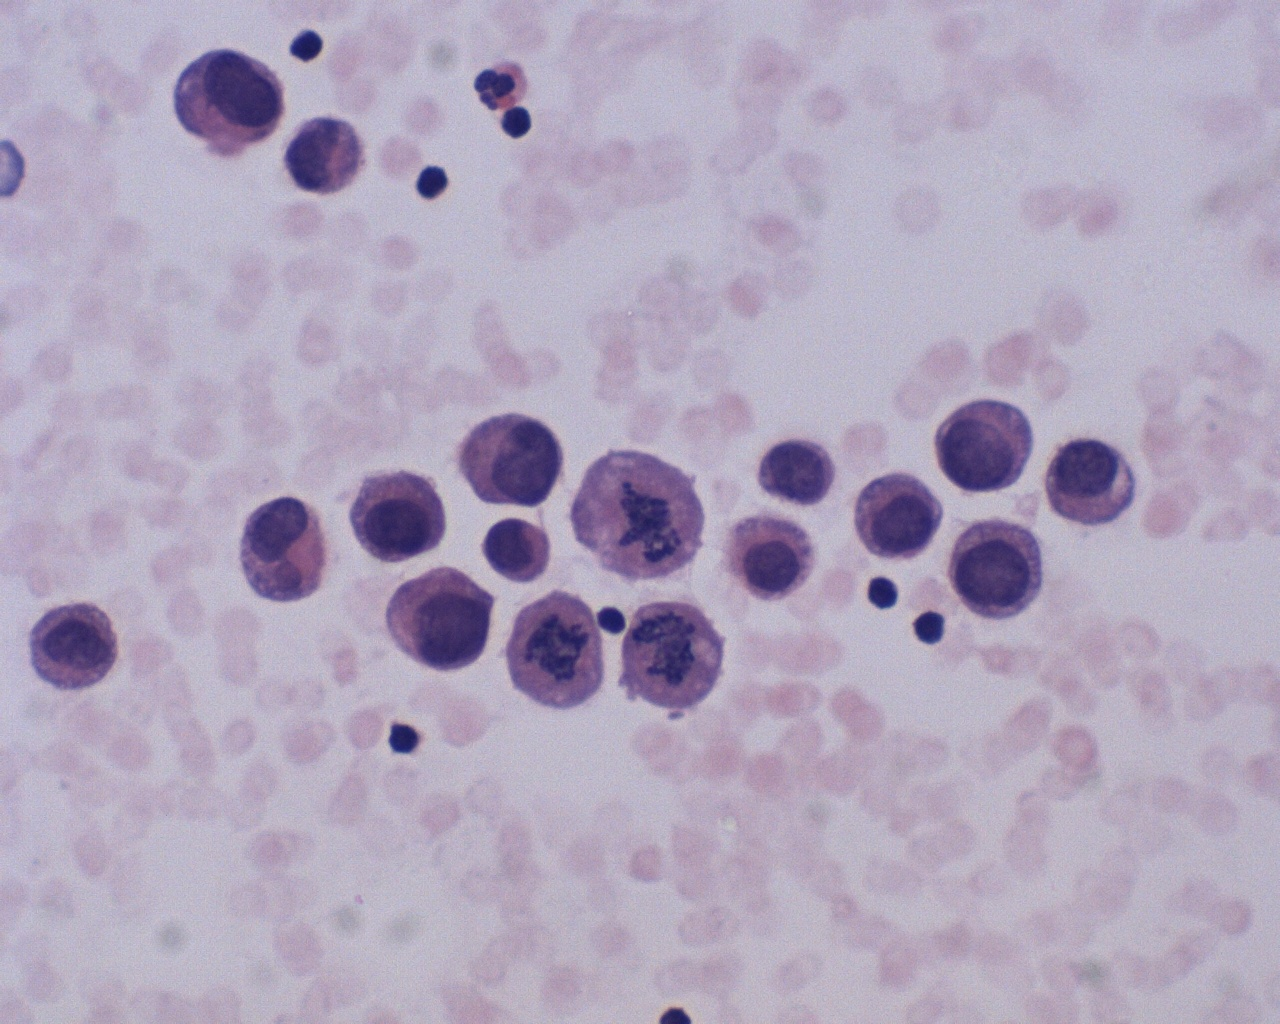ab: (561, 442, 712, 588), (145, 44, 288, 161), (493, 586, 620, 714), (615, 596, 736, 720), (379, 563, 498, 681), (451, 395, 571, 511), (946, 508, 1060, 628), (235, 485, 339, 611), (14, 594, 134, 697), (929, 386, 1039, 498), (347, 461, 451, 569), (1045, 429, 1144, 532), (850, 462, 942, 561), (750, 426, 844, 511), (479, 509, 551, 587)
lymph: (377, 717, 429, 761), (861, 572, 906, 616), (414, 163, 455, 203), (496, 101, 535, 140)
neutro: (465, 54, 538, 115)
